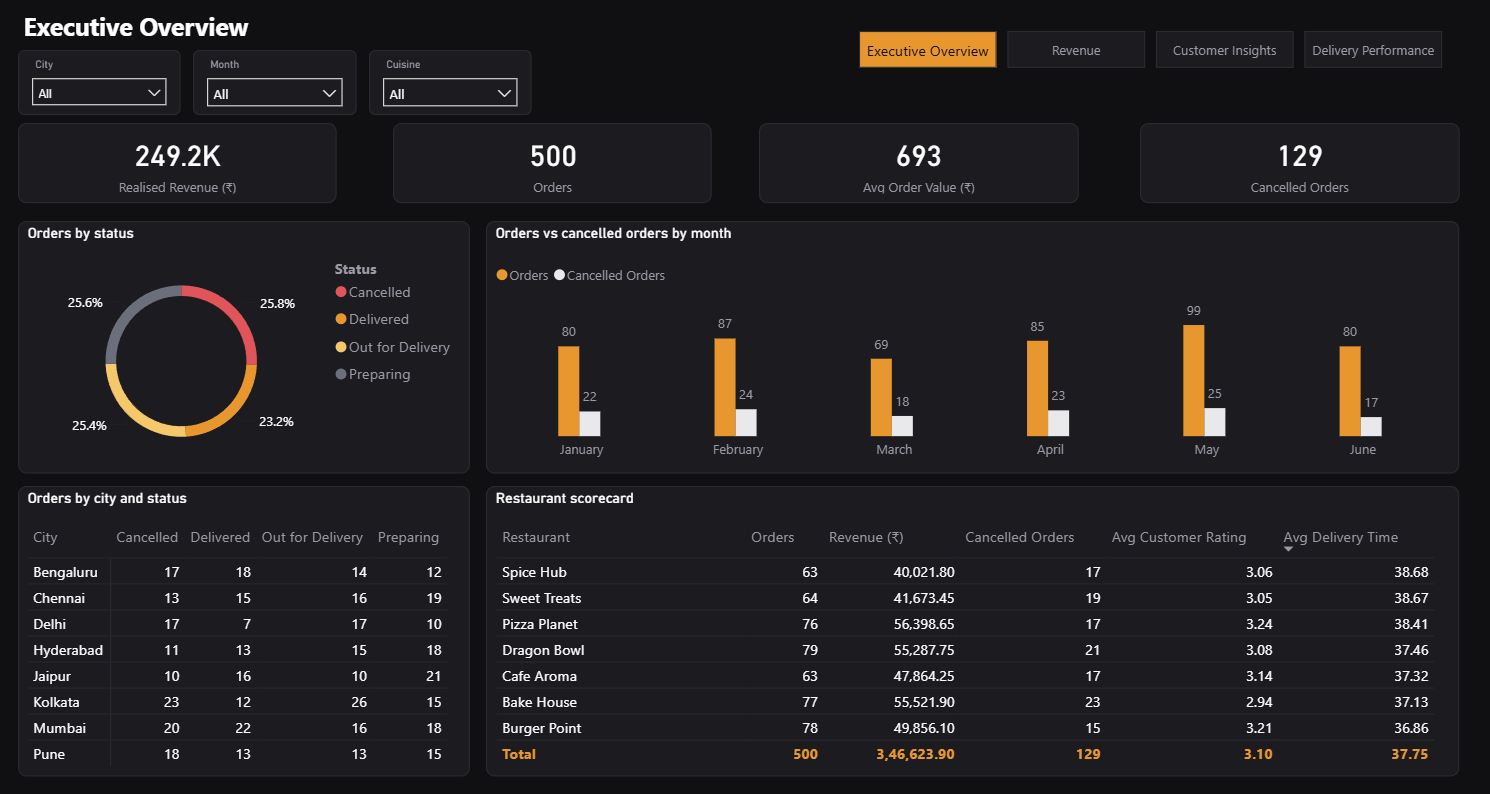

The dashboard page shown, as its layout file describes it:
{"tool":"powerbi","page":{"name":"Executive Overview","canvas":[1380,740],"ordinal":0},"visuals":[{"type":"textbox","box":[20.2,8.1,640,48.4],"z":0},{"type":"donutChart","title":"Orders by status","fields":{"Category":["FOOD DELIVERY ORDERS.Order_Status"],"Y":["FOOD DELIVERY ORDERS.Total Orders"]},"box":[20.6,207.5,417.3,232.5],"z":1000},{"type":"clusteredColumnChart","title":"Orders vs cancelled orders by month","fields":{"Category":["FOOD DELIVERY ORDERS.Order_Date.Month"],"Y":["FOOD DELIVERY ORDERS.Total Orders","FOOD DELIVERY ORDERS.Orders Cancelled"]},"box":[452,207.5,897.5,232.5],"z":2000},{"type":"pivotTable","title":"Orders by city and status","fields":{"Rows":["FOOD DELIVERY ORDERS.City"],"Columns":["FOOD DELIVERY ORDERS.Order_Status"],"Values":["FOOD DELIVERY ORDERS.Total Orders"]},"box":[20.6,452,417.3,268.4],"z":3000},{"type":"tableEx","title":"Restaurant scorecard","fields":{"Values":["FOOD DELIVERY ORDERS.Restaurant_Name","FOOD DELIVERY ORDERS.Total Orders","Sum(FOOD DELIVERY ORDERS.Total_Amount)","FOOD DELIVERY ORDERS.Orders Cancelled","Avg(FOOD DELIVERY ORDERS.Customer_Rating)","Avg(FOOD DELIVERY ORDERS.Delivery_Time)"]},"box":[452,452,897.5,268.4],"z":4000},{"type":"pageNavigator","box":[796.5,32.6,541.1,34.8],"z":5000},{"type":"slicer","fields":{"Values":["FOOD DELIVERY ORDERS.City"]},"box":[20.6,50,150,59.8],"z":6000},{"type":"slicer","fields":{"Values":["FOOD DELIVERY ORDERS.Order_Date.Month"]},"box":[181.5,50,151,59.8],"z":7000},{"type":"slicer","fields":{"Values":["FOOD DELIVERY ORDERS.Category"]},"box":[344.5,50,150,59.8],"z":8000},{"type":"card","fields":{"Values":["Sum(FOOD DELIVERY ORDERS.Total_Amount)"]},"box":[20.6,117.4,294.5,74],"z":9000},{"type":"card","fields":{"Values":["FOOD DELIVERY ORDERS.Total Orders"]},"box":[366.2,117.4,294.5,74],"z":10000},{"type":"card","fields":{"Values":["FOOD DELIVERY ORDERS.Average Order Value"]},"box":[704.1,117.4,295,74],"z":11000},{"type":"card","fields":{"Values":["FOOD DELIVERY ORDERS.Orders Cancelled"]},"box":[1055.1,117.4,295,74],"z":12000}]}

Visuals, with their boxes in screenshot pixels (x1, y1, x2, y2), scaled from the page's 1380x740 canvas onto the 1490x794 screenshot:
textbox: <bbox>22, 9, 713, 61</bbox>
"Orders by status" donutChart: <bbox>22, 223, 473, 472</bbox>
"Orders vs cancelled orders by month" clusteredColumnChart: <bbox>488, 223, 1457, 472</bbox>
"Orders by city and status" pivotTable: <bbox>22, 485, 473, 773</bbox>
"Restaurant scorecard" tableEx: <bbox>488, 485, 1457, 773</bbox>
pageNavigator: <bbox>860, 35, 1444, 72</bbox>
slicer - FOOD DELIVERY ORDERS.City: <bbox>22, 54, 184, 118</bbox>
slicer - FOOD DELIVERY ORDERS.Order_Date.Month: <bbox>196, 54, 359, 118</bbox>
slicer - FOOD DELIVERY ORDERS.Category: <bbox>372, 54, 534, 118</bbox>
card - Sum(FOOD DELIVERY ORDERS.Total_Amount): <bbox>22, 126, 340, 205</bbox>
card - FOOD DELIVERY ORDERS.Total Orders: <bbox>395, 126, 713, 205</bbox>
card - FOOD DELIVERY ORDERS.Average Order Value: <bbox>760, 126, 1079, 205</bbox>
card - FOOD DELIVERY ORDERS.Orders Cancelled: <bbox>1139, 126, 1458, 205</bbox>
